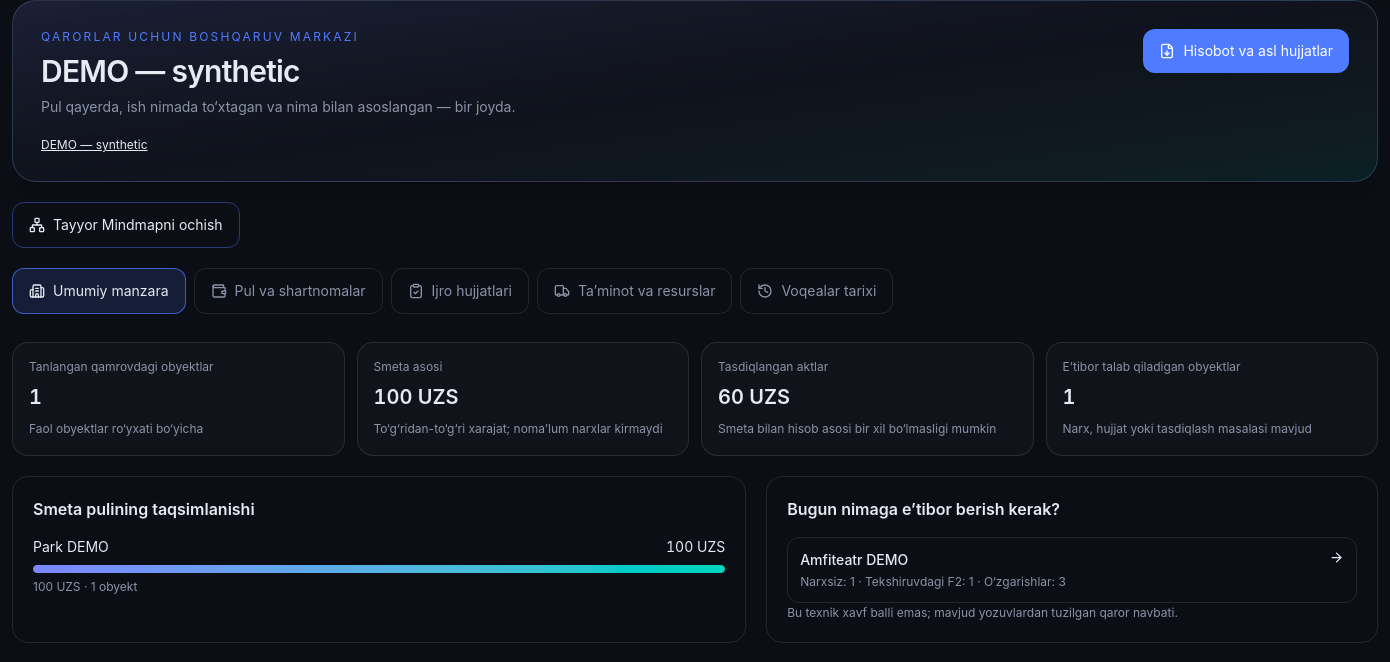
Test: executive cockpit drilldown › uses the existing Mindmap instead of another graph or map tab
Click the button "Park DEMO 100 UZS 100 UZS · 1 obyekt". click: click(379, 566)
box: [33,536,725,596]
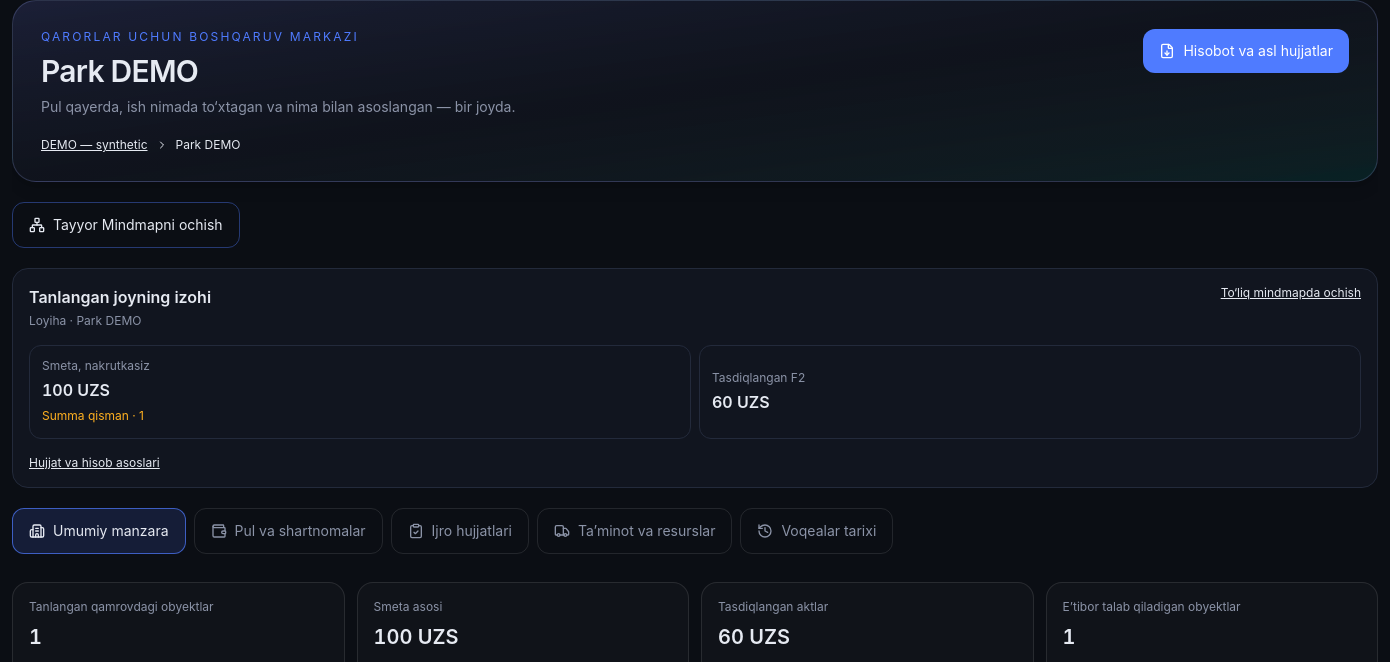
Now the heading "Park DEMO" is shown, box [41,53,198,89]
Now the heading "Tanlangan joyning izohi" is shown, box [29,285,211,309]
